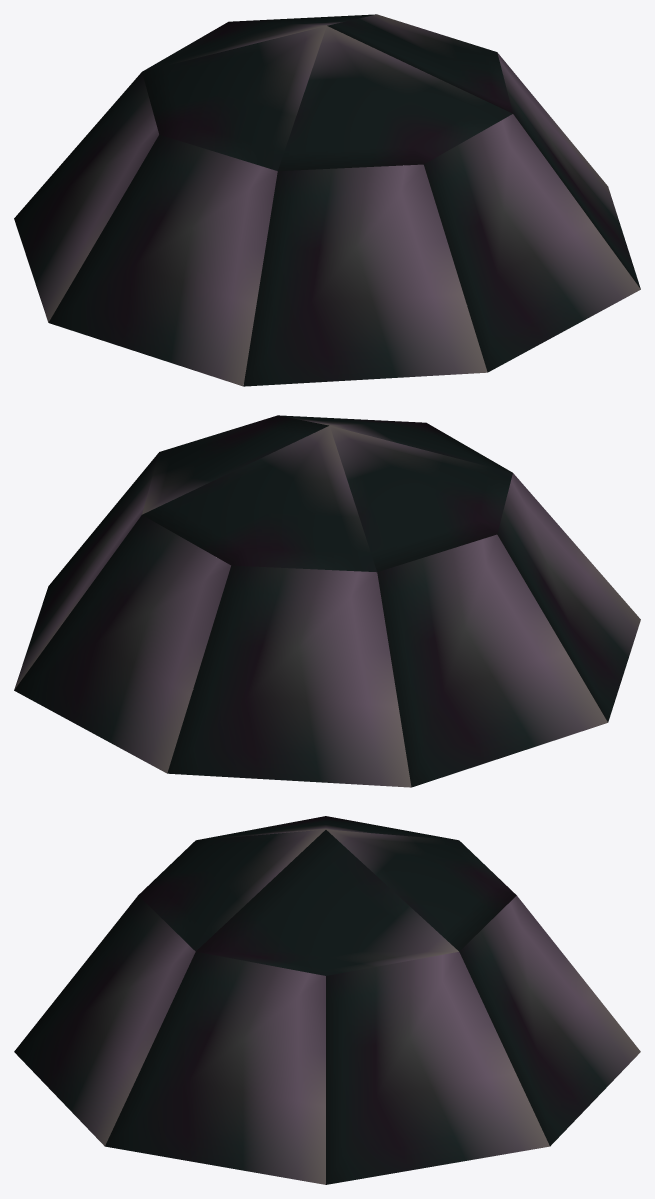
3 views of the same model, one above another, from view 1: azimuth 30°, elevation 25°; view 2: azimuth 150°, elevation 25°; view 3: azimuth 270°, elevation 25° (orthographic). The views are drawn at different scales.
Visible parts, largest first — view 1: T1L6M005_9; view 2: T1L6M005_9; view 3: T1L6M005_9.
Boxes of the visible parts, x1,y1,x2,y2 form: T1L6M005_9: [14, 14, 640, 386]; T1L6M005_9: [14, 415, 640, 787]; T1L6M005_9: [14, 816, 640, 1184].
Size of the model in its own units: 0.2021 by 0.0791 by 0.2021.
